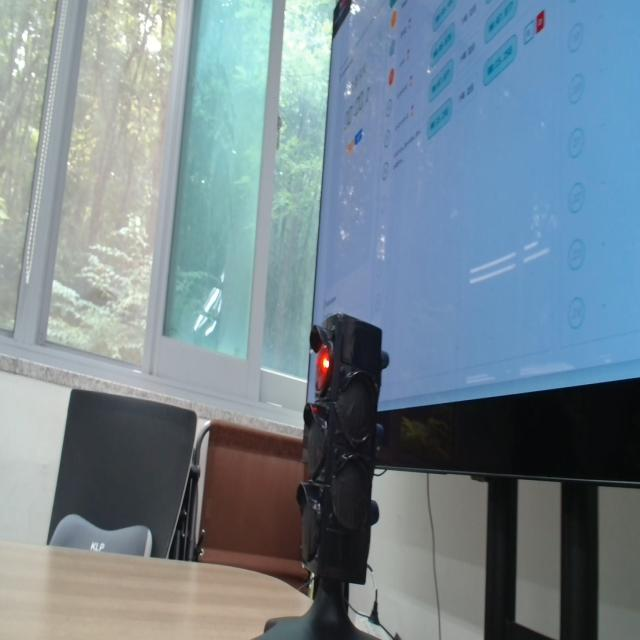red_light: (316, 345, 331, 394)
